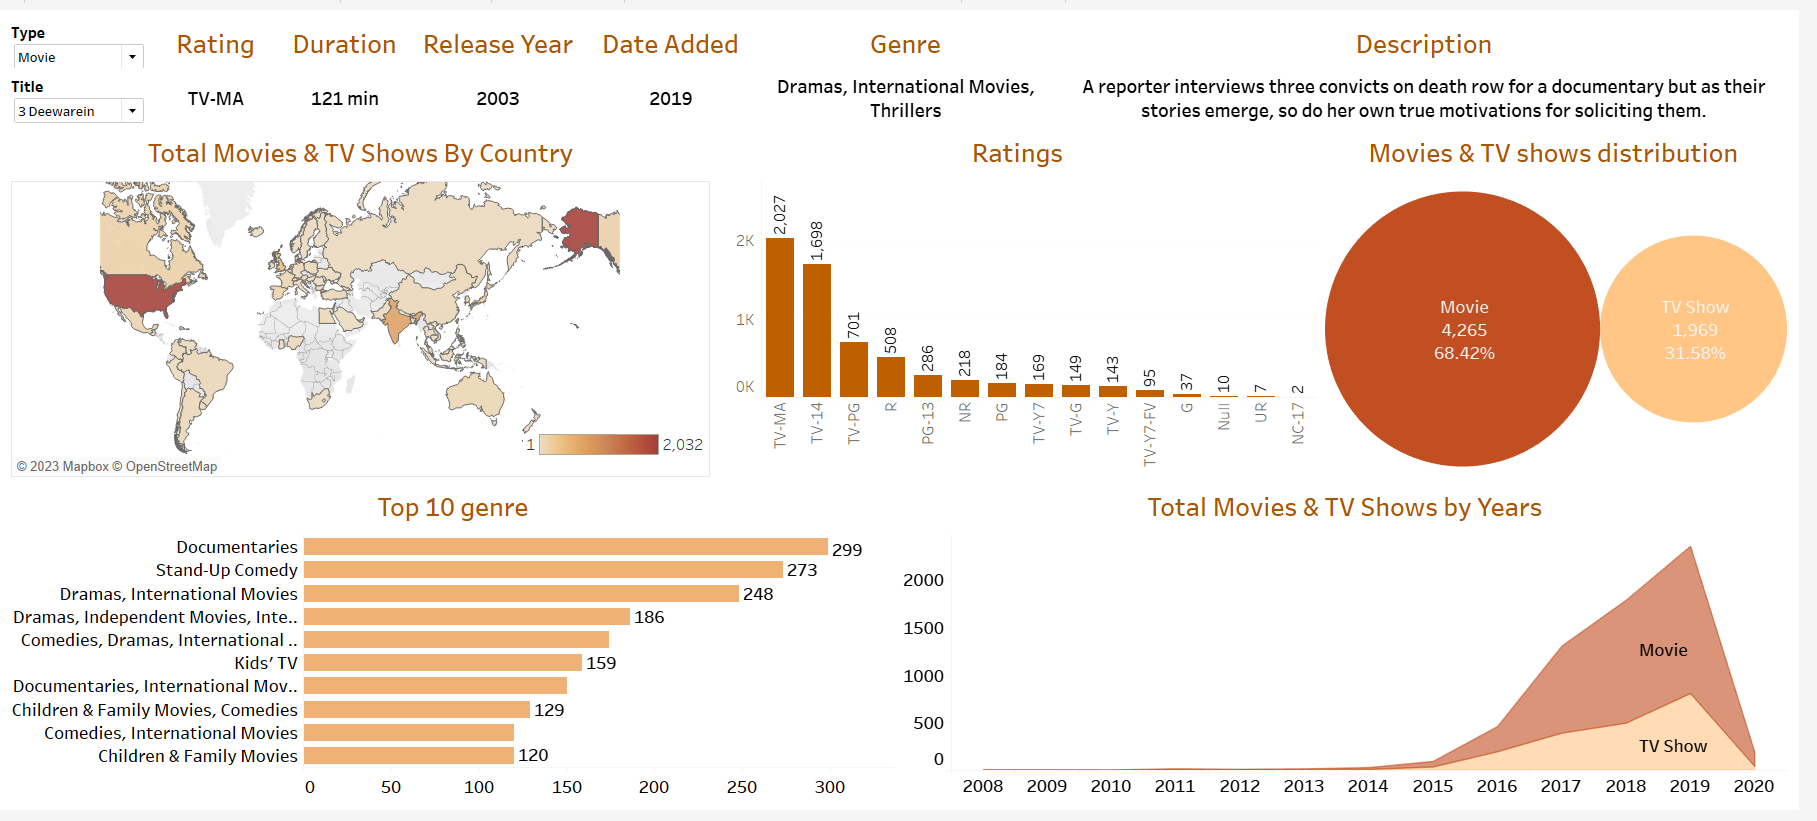

The dashboard page shown, as its layout file describes it:
{"tool":"tableau","page":{"name":"Netflix","canvas":[1800,800],"ordinal":0},"visuals":[{"type":"filter","title":"Description","param":"[federated.0fu0j260jhsoqb10z2qs703vqmw4].[none:type:nk]","box":[8,8,144,54.5]},{"type":"worksheet","title":"Rating","mark":"Automatic","box":[152,8,129,109]},{"type":"worksheet","title":"Duration","mark":"Automatic","box":[281,8,129,109]},{"type":"worksheet","title":"Release Year","mark":"Automatic","box":[410,8,178,109]},{"type":"worksheet","title":"Date Added","mark":"Automatic","box":[588,8,167,109]},{"type":"worksheet","title":"Genre","mark":"Automatic","box":[755,8,303,109]},{"type":"worksheet","title":"Description","mark":"Automatic","box":[1058,8,734,109]},{"type":"filter","title":"Description","param":"[federated.0fu0j260jhsoqb10z2qs703vqmw4].[none:title:nk]","box":[8,62.5,144,54.5]},{"type":"worksheet","title":"Total Movies % TV shows by country","mark":"Multipolygon","box":[8,117,707.4,353.9]},{"type":"worksheet","title":"Ratings","mark":"Automatic","rows":["show_id"],"cols":["rating"],"box":[715.4,117,606.7,353.9]},{"type":"worksheet","title":"Movies & TV shows distribution ","mark":"Circle","box":[1322.1,117,469.9,353.9]},{"type":"legend","title":"Total Movies % TV shows by country","param":"[federated.0fu0j260jhsoqb10z2qs703vqmw4].[ctd:show_id:qk]","box":[451,420,258,44]},{"type":"worksheet","title":"Top 10 genre","mark":"Automatic","rows":["listed_in"],"cols":["show_id"],"box":[8,470.9,892,321.1]},{"type":"worksheet","title":"Total movies & TV shows by year","mark":"Area","rows":["show_id"],"cols":["date_added"],"box":[900,470.9,892,321.1]}]}

Visuals, with their boxes in screenshot pixels (x1, y1, x2, y2), scaled from the page's 1800x800 canvas onto the 1817x821 screenshot:
"Description" filter: crop(8, 8, 153, 64)
"Rating" worksheet: crop(153, 8, 284, 120)
"Duration" worksheet: crop(284, 8, 414, 120)
"Release Year" worksheet: crop(414, 8, 594, 120)
"Date Added" worksheet: crop(594, 8, 762, 120)
"Genre" worksheet: crop(762, 8, 1068, 120)
"Description" worksheet: crop(1068, 8, 1809, 120)
"Description" filter: crop(8, 64, 153, 120)
"Total Movies % TV shows by country" worksheet (Multipolygon marks): crop(8, 120, 722, 483)
"Ratings" worksheet: crop(722, 120, 1335, 483)
"Movies & TV shows distribution " worksheet (Circle marks): crop(1335, 120, 1809, 483)
"Total Movies % TV shows by country" legend: crop(455, 431, 716, 476)
"Top 10 genre" worksheet: crop(8, 483, 908, 813)
"Total movies & TV shows by year" worksheet (Area marks): crop(908, 483, 1809, 813)
